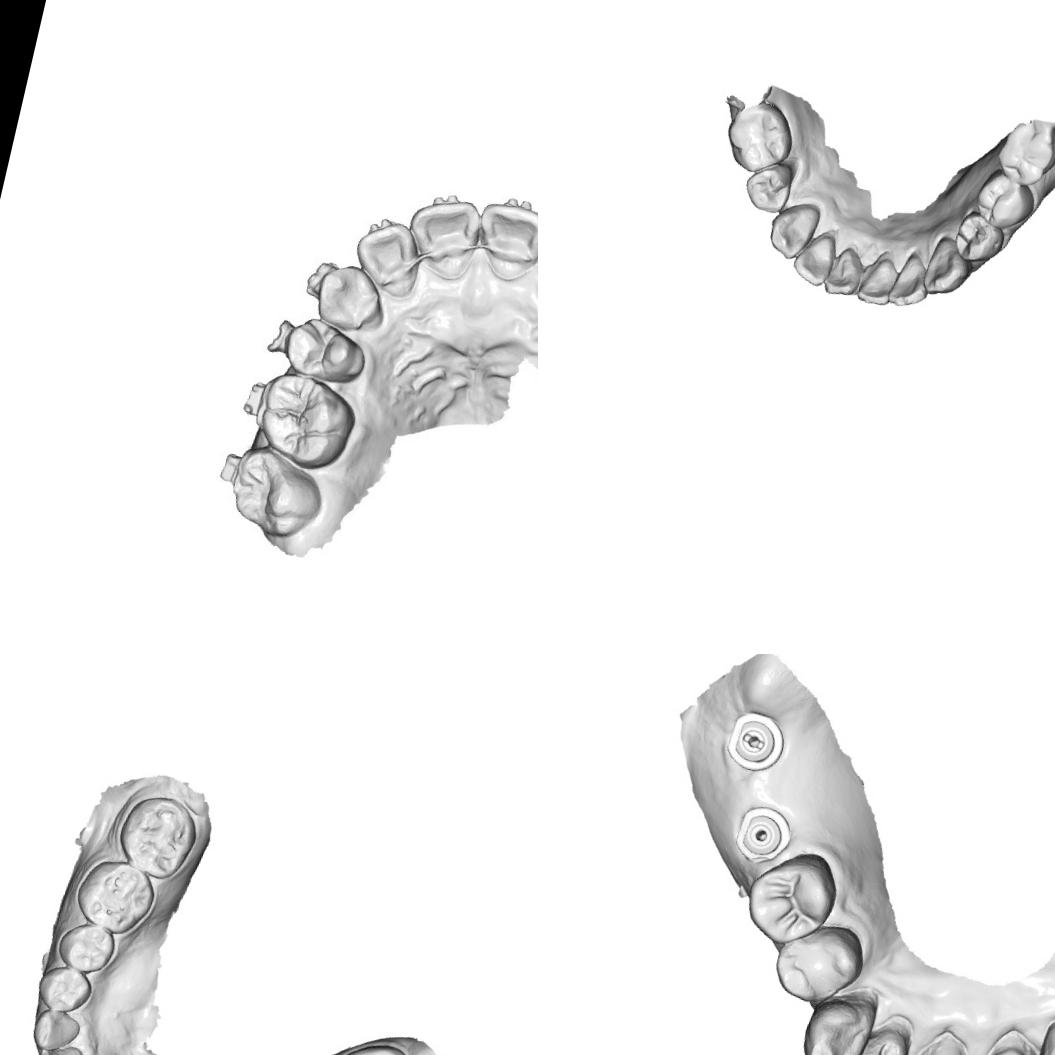canine: (304, 256, 395, 339), (793, 986, 876, 1055), (918, 232, 978, 302), (764, 196, 824, 264), (28, 1004, 84, 1055)
implant: (732, 805, 793, 859)
implant_minus: (717, 710, 786, 777)
incisor: (406, 192, 490, 283), (344, 216, 424, 297), (475, 195, 538, 285), (786, 228, 840, 290), (886, 248, 935, 313), (854, 252, 901, 310), (822, 242, 868, 300), (838, 1024, 919, 1055), (32, 1038, 84, 1055)
molar: (250, 368, 365, 476), (218, 443, 331, 543), (110, 786, 205, 886), (69, 851, 162, 941), (718, 94, 803, 183), (992, 114, 1055, 192), (317, 1032, 428, 1055)
premolar: (737, 845, 843, 955), (764, 914, 868, 1014), (278, 310, 375, 393), (970, 166, 1042, 236), (53, 916, 120, 979), (949, 206, 1011, 269), (738, 154, 798, 218), (32, 961, 97, 1019)
